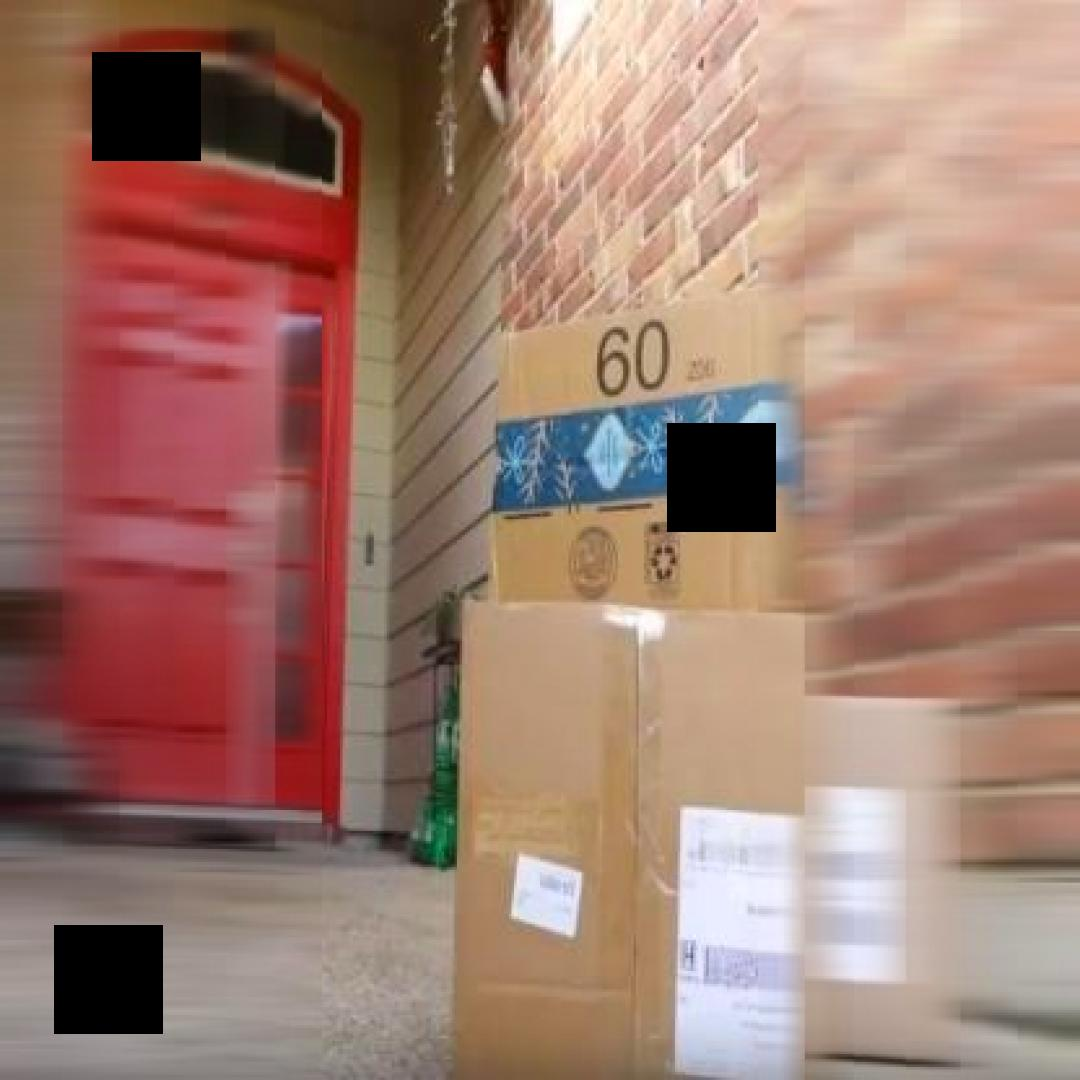package: (451, 584, 826, 1078), (490, 312, 818, 625), (821, 690, 960, 1070)
